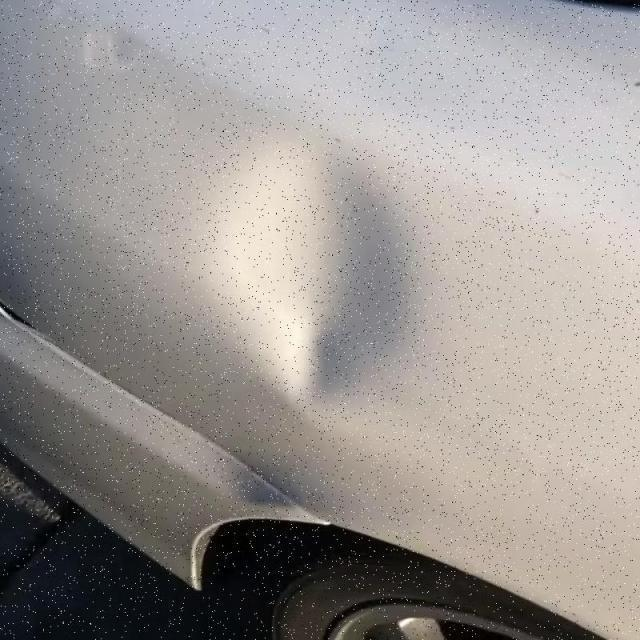dent: (219, 133, 435, 416)
